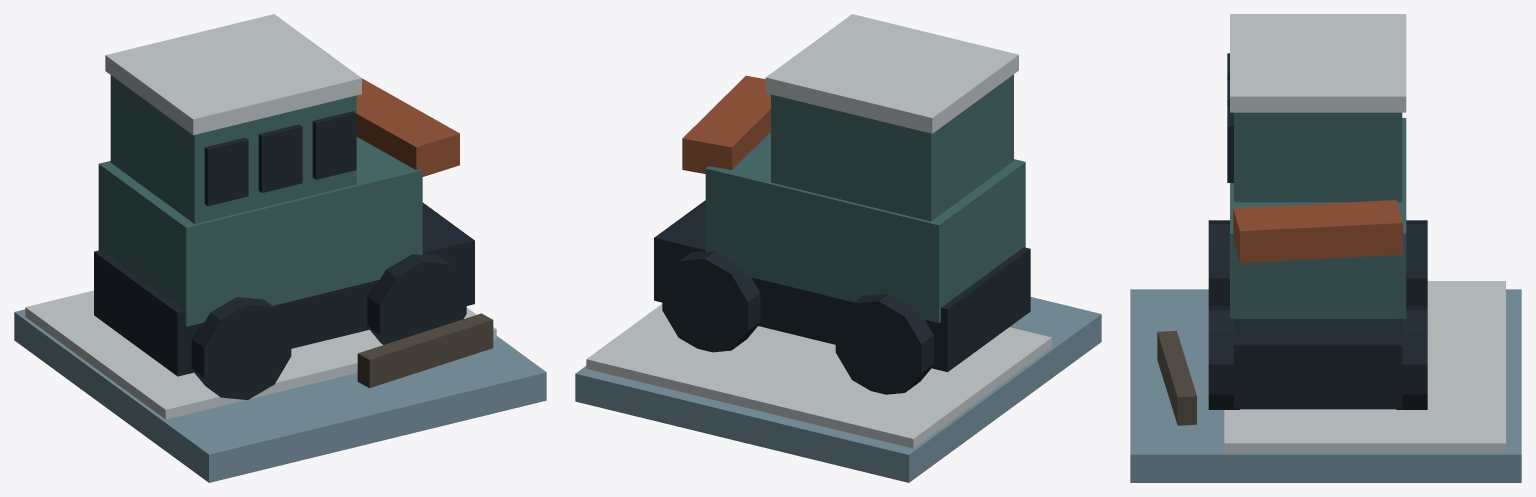
File: wrecked_vehicle.glb
The picture shows the model from 3 angles, left to right: view 1: azimuth 30°, elevation 25°; view 2: azimuth 150°, elevation 25°; view 3: azimuth 270°, elevation 25°; orthographic projection.
Parts seen in each view (by area): view 1: wrecked_vehicle; view 2: wrecked_vehicle; view 3: wrecked_vehicle.
Part boxes in pixels (x1,y1,x2,y2): wrecked_vehicle: (14, 14, 546, 482); wrecked_vehicle: (575, 14, 1101, 482); wrecked_vehicle: (1130, 14, 1521, 482).
Bounding box in the file's own units: 1 × 0.9025 × 1.
